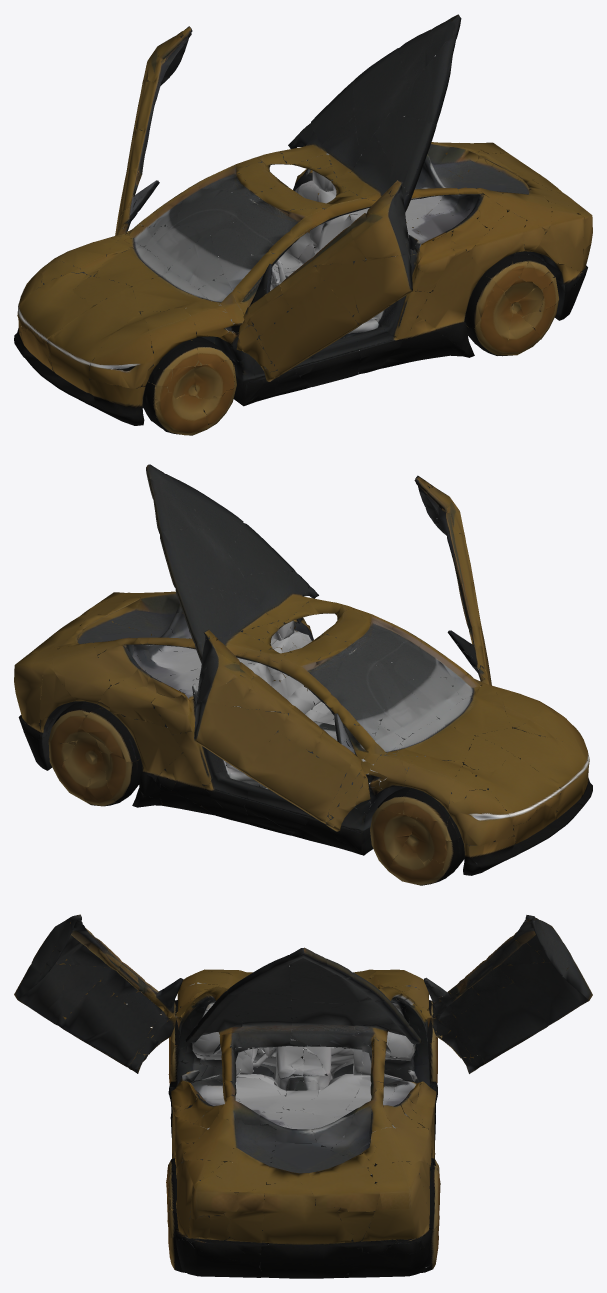
Rendered from cybercab-meshy.glb.
3 views of the same model, one above another, from view 1: azimuth 30°, elevation 25°; view 2: azimuth 150°, elevation 25°; view 3: azimuth 270°, elevation 25° (orthographic). The views are drawn at different scales.
Visible parts, largest first — view 1: Meshy_Cybercab_Body; view 2: Meshy_Cybercab_Body; view 3: Meshy_Cybercab_Body.
Boxes of the visible parts, box(x1,y1,x2,y2) form: Meshy_Cybercab_Body: box(14, 14, 592, 435); Meshy_Cybercab_Body: box(14, 464, 592, 885); Meshy_Cybercab_Body: box(14, 914, 592, 1278).
Bounding box in the file's own units: 4.79 × 2.74 × 4.45.
1 material, 1 textured.
